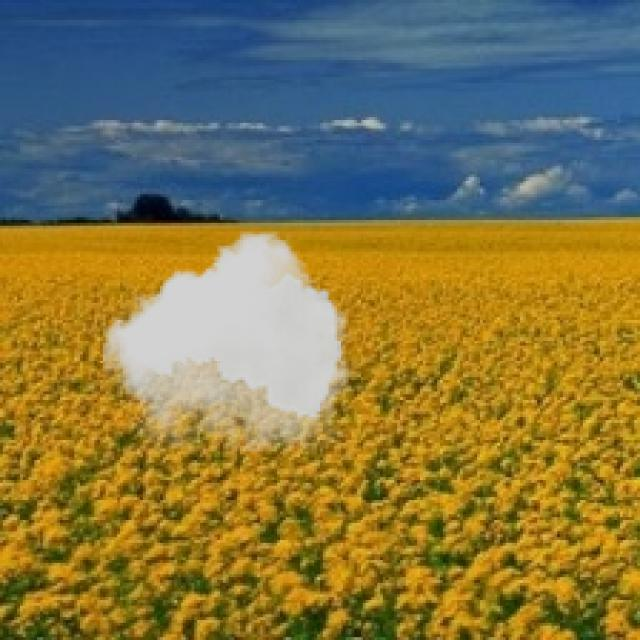smoke: (103, 232, 351, 452)
